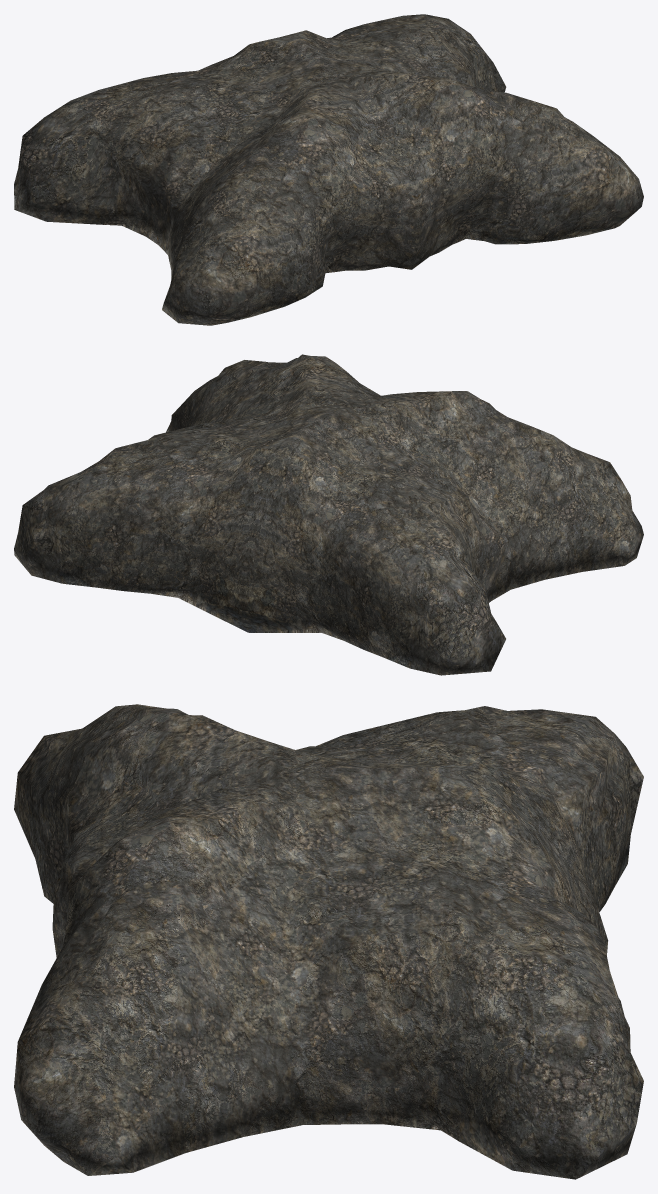
File: Cave21.fbx
3 renders of one model, top to bottom at view 1: azimuth 30°, elevation 25°; view 2: azimuth 150°, elevation 25°; view 3: azimuth 270°, elevation 25°, orthographic. The views are drawn at different scales.
Visible parts, largest first — view 1: Cave23; view 2: Cave23; view 3: Cave23.
Boxes of the visible parts, <box> form: Cave23: <box>14,14,643,325</box>; Cave23: <box>14,354,643,675</box>; Cave23: <box>14,704,643,1179</box>.
Size of the model in its own units: 283 by 91.75 by 206.
